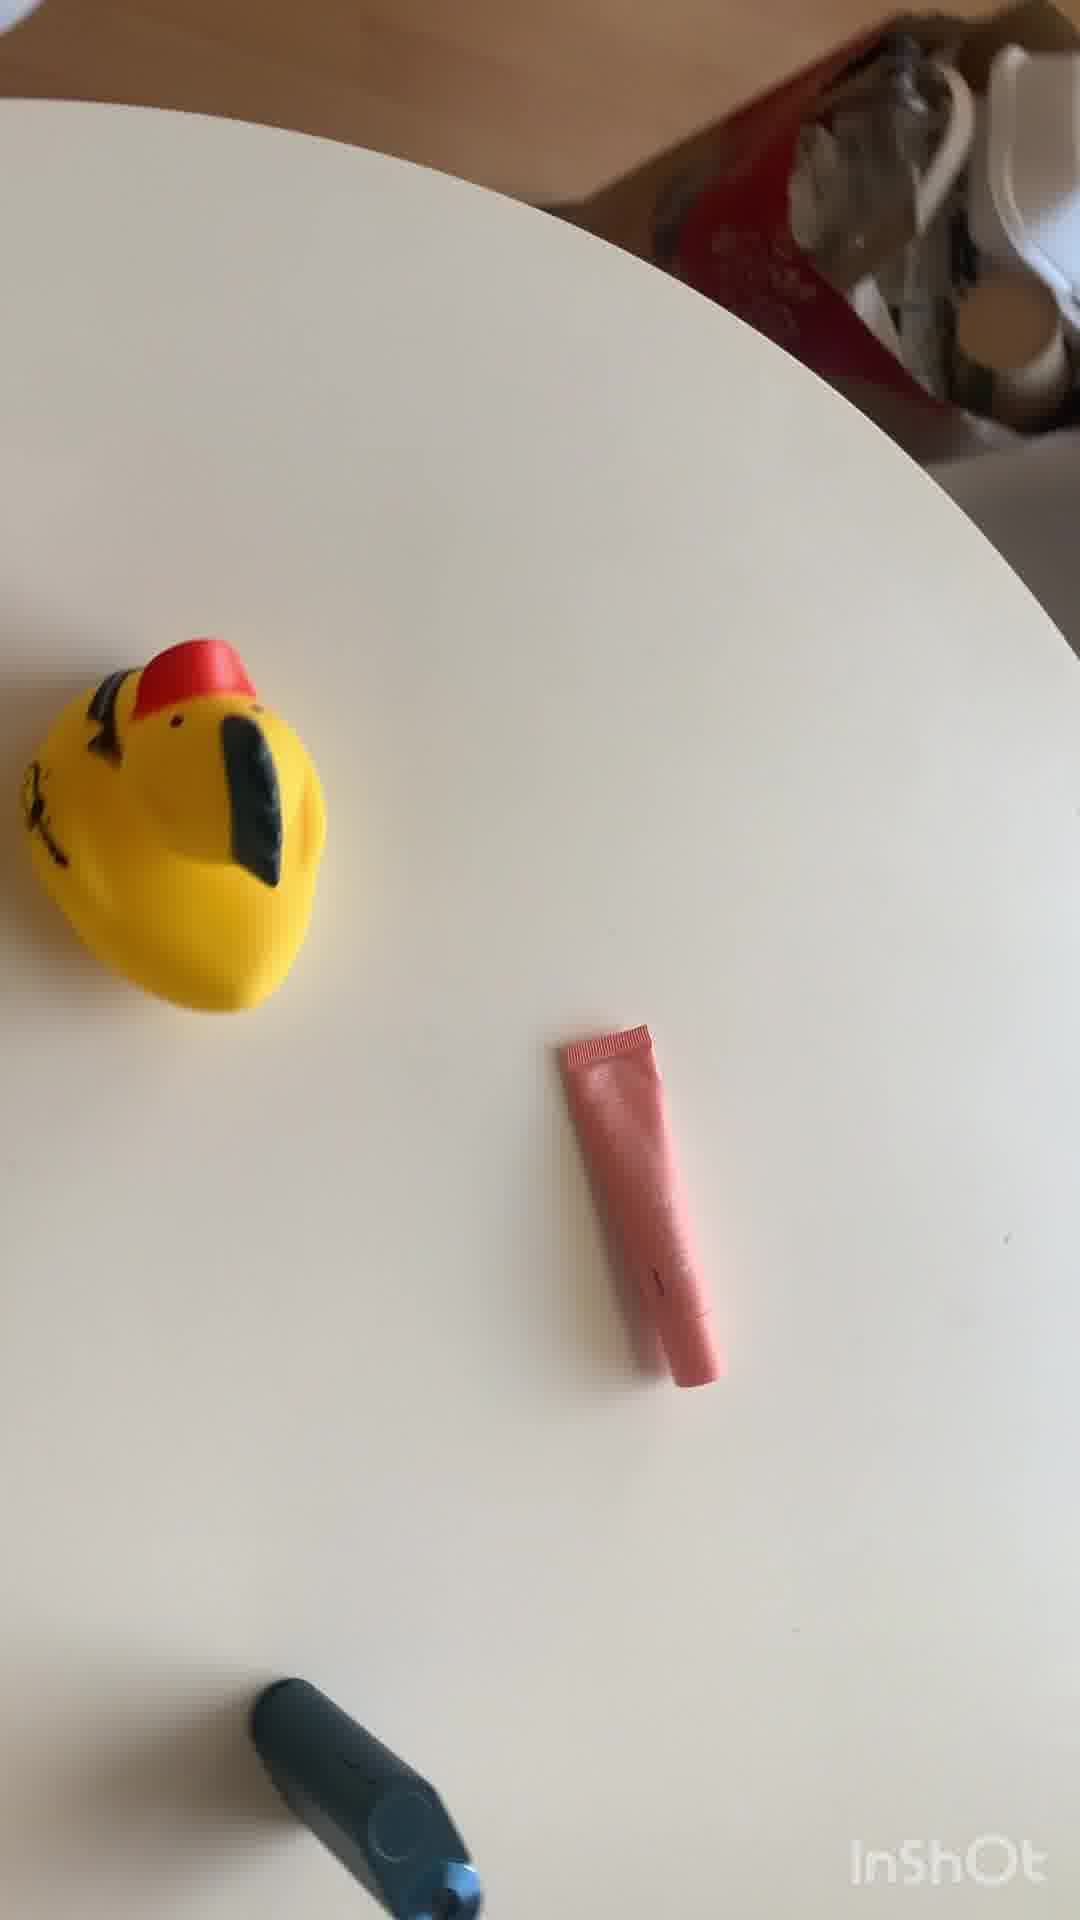duck: (22, 634, 336, 1029)
glo: (247, 1672, 491, 1920)
lip balm: (539, 1026, 733, 1395)
